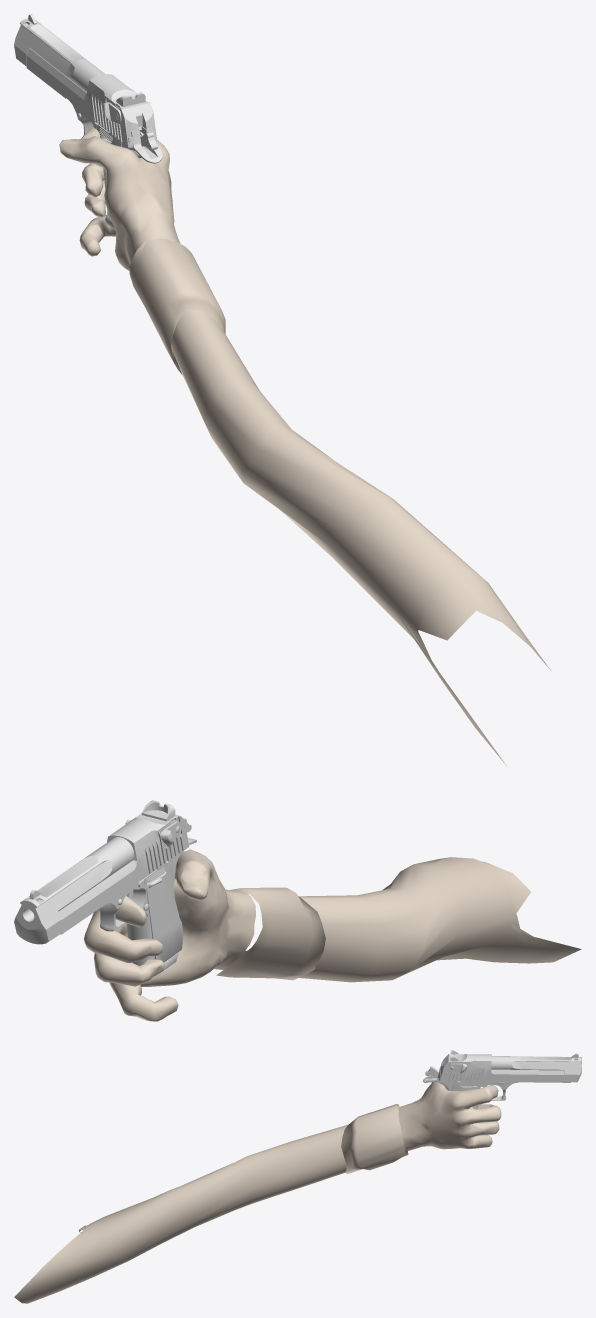
The model's file is deagle_posed.glb.
3 views of the same model, one above another, from view 1: azimuth 30°, elevation 25°; view 2: azimuth 150°, elevation 25°; view 3: azimuth 270°, elevation 25° (orthographic). The views are drawn at different scales.
Parts seen in each view (by area): view 1: char, slide, body; view 2: char, body, slide; view 3: char, body, slide.
Boxes of the visible parts, x1,y1,x2,y2 form: char: (59,126,550,765); slide: (26,48,157,147); body: (14,14,162,229); char: (84,849,581,1021); body: (14,818,196,975); slide: (58,800,188,934); char: (14,1082,501,1303); body: (423,1053,581,1108); slide: (439,1050,564,1082).
Bounding box in the file's own units: 0.1602 × 0.4689 × 0.9987.
